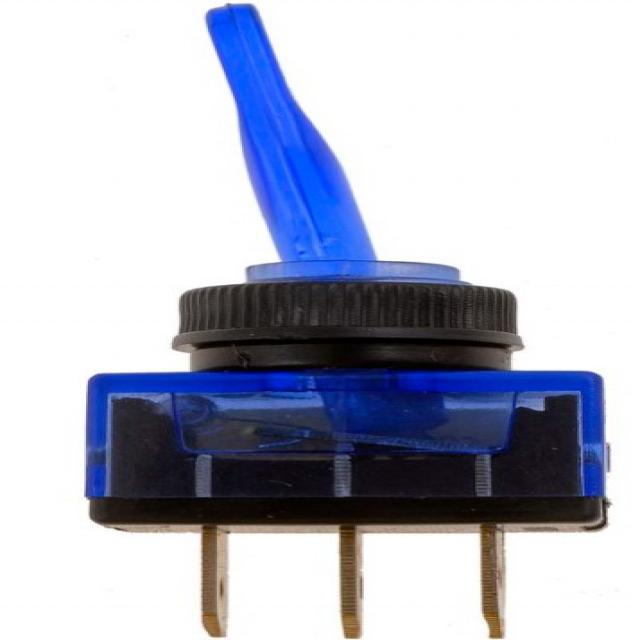toggle switch: (167, 5, 522, 351)
